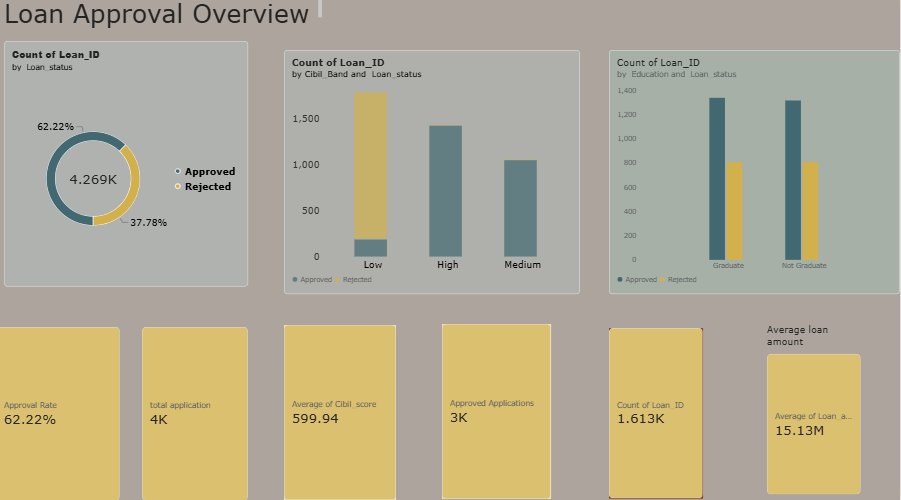

What the dashboard file says about the page in this screenshot:
{"tool":"powerbi","page":{"name":"Loan approval overview","canvas":[1920,1080],"ordinal":0},"visuals":[{"type":"donutChart","fields":{"Category":["loan_cleaned. Loan_status"],"Y":["CountNonNull(loan_cleaned.Loan_ID)"]},"box":[17.2,103,519.1,521.6],"z":0},{"type":"columnChart","fields":{"Category":["loan_cleaned.Cibil_Band"],"Series":["loan_cleaned. Loan_status"],"Y":["CountNonNull(loan_cleaned.Loan_ID)"]},"box":[611.4,120.1,628.6,519.2],"z":1},{"type":"cardVisual","fields":{"Data":["loan_cleaned.Approval Rate"]},"box":[0,710.1,263.6,369.9],"z":2},{"type":"cardVisual","fields":{"Data":["Avg(loan_cleaned. Cibil_score)"]},"box":[611.4,705.8,238.1,372],"z":3},{"type":"cardVisual","fields":{"Data":["loan_cleaned.APPROVED Appplication"]},"box":[948.2,703.6,231.7,372],"z":4},{"type":"cardVisual","fields":{"Data":["loan_cleaned.total application"]},"box":[311.1,710.1,225.4,369.9],"z":5},{"type":"cardVisual","fields":{"Data":["Count(loan_cleaned.Loan_ID)"]},"box":[1302.2,712.2,199.5,362.5],"z":6},{"type":"cardVisual","title":"Average loan amount","fields":{"Data":["Avg(loan_cleaned. Loan_amount)"]},"box":[1639,703.6,199.5,362.5],"z":7},{"type":"clusteredColumnChart","fields":{"Category":["loan_cleaned. Education"],"Series":["loan_cleaned. Loan_status"],"Y":["CountNonNull(loan_cleaned.Loan_ID)"]},"box":[1302.2,120.1,617.8,519.2],"z":8},{"type":"textbox","box":[17.2,10.7,675.8,68.6],"z":9}]}

Visuals, with their boxes in screenshot pixels (x1, y1, x2, y2), scaled from the page's 1920x1080 canvas onto the 901x500 screenshot:
donutChart - loan_cleaned. Loan_status x CountNonNull(loan_cleaned.Loan_ID): 8, 48, 252, 289
columnChart - loan_cleaned.Cibil_Band x loan_cleaned. Loan_status: 287, 56, 582, 296
cardVisual - loan_cleaned.Approval Rate: 0, 329, 124, 499
cardVisual - Avg(loan_cleaned. Cibil_score): 287, 327, 399, 499
cardVisual - loan_cleaned.APPROVED Appplication: 445, 326, 554, 498
cardVisual - loan_cleaned.total application: 146, 329, 252, 499
cardVisual - Count(loan_cleaned.Loan_ID): 611, 330, 705, 498
"Average loan amount" cardVisual: 769, 326, 863, 494
clusteredColumnChart - loan_cleaned. Education x loan_cleaned. Loan_status: 611, 56, 900, 296
textbox: 8, 5, 325, 37
